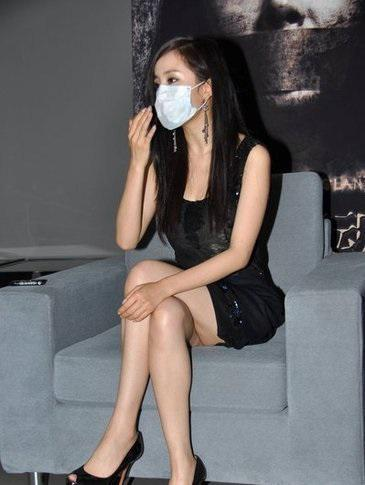OK: (153, 70, 207, 124)
